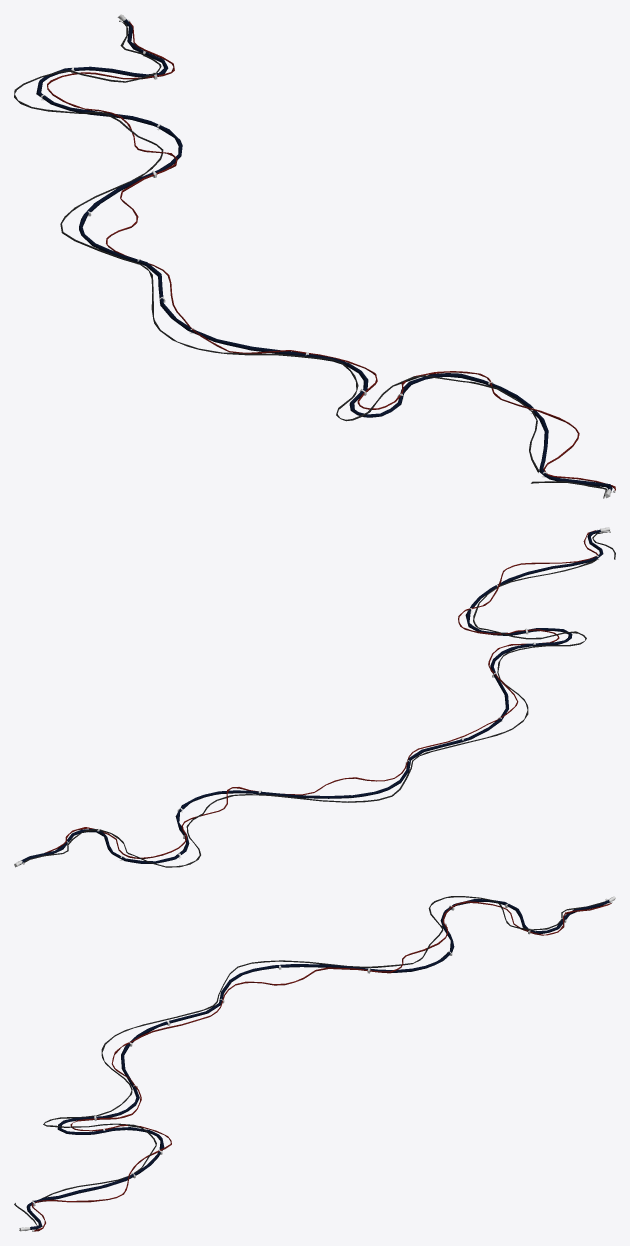
The model's file is SM_H_Gibraltar_Props_Cable_Rubber_01A_ATLAS.fbx.
3 renders of one model, top to bottom at view 1: azimuth 30°, elevation 25°; view 2: azimuth 150°, elevation 25°; view 3: azimuth 330°, elevation 25°, orthographic. The views are drawn at different scales.
Visible parts, largest first — view 1: SM_H_Gibraltar_Props_Cable_Rubber_01A_ATLAS_LOD0; view 2: SM_H_Gibraltar_Props_Cable_Rubber_01A_ATLAS_LOD0; view 3: SM_H_Gibraltar_Props_Cable_Rubber_01A_ATLAS_LOD0.
Boxes of the visible parts, left/top/right/bottom form: SM_H_Gibraltar_Props_Cable_Rubber_01A_ATLAS_LOD0: left=14, top=14, right=615, bottom=498; SM_H_Gibraltar_Props_Cable_Rubber_01A_ATLAS_LOD0: left=14, top=527, right=615, bottom=867; SM_H_Gibraltar_Props_Cable_Rubber_01A_ATLAS_LOD0: left=14, top=896, right=615, bottom=1231.
Bounding box in the file's own units: 444 × 1600 × 12.71.
